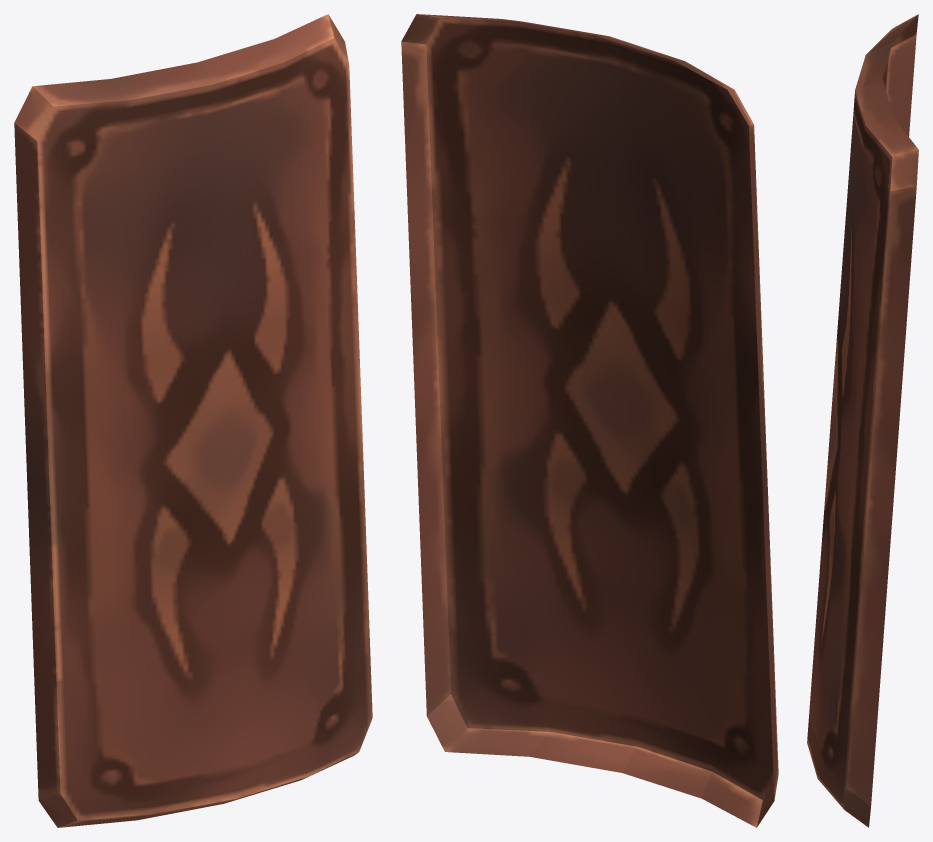
Rendered from Rome_Village_Props_02.FBX.
3 views of the same model, side by side, from view 1: azimuth 30°, elevation 25°; view 2: azimuth 150°, elevation 25°; view 3: azimuth 270°, elevation 25° (orthographic). The views are drawn at different scales.
Parts seen in each view (by area): view 1: Rome_Village_Props_02; view 2: Rome_Village_Props_02; view 3: Rome_Village_Props_02.
Boxes of the visible parts, box(x1,y1,x2,y2) form: Rome_Village_Props_02: box(14, 14, 372, 827); Rome_Village_Props_02: box(401, 14, 778, 827); Rome_Village_Props_02: box(807, 14, 918, 827).
Size of the model in its own units: 59.69 by 125 by 18.6.
